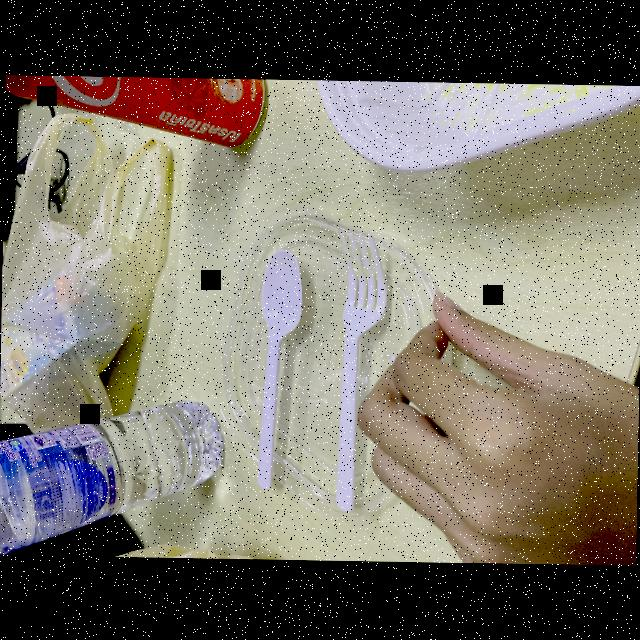plastic_spoon: (321, 222, 395, 515), (248, 240, 308, 504)
